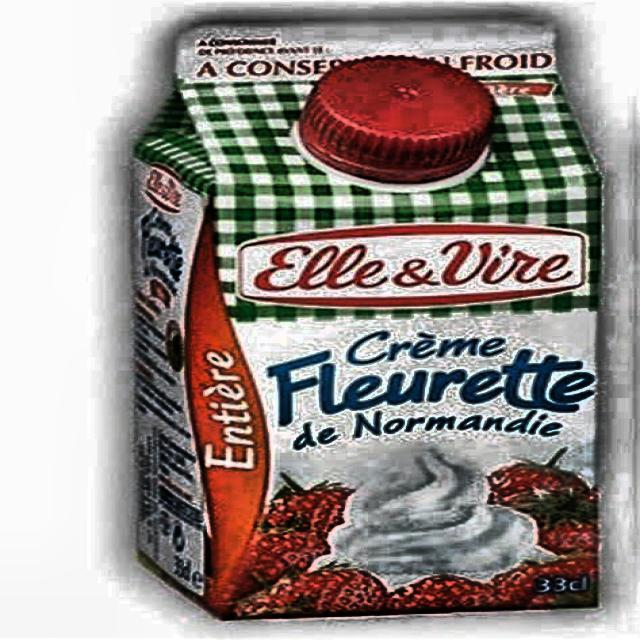cardboard: (128, 16, 605, 620)
